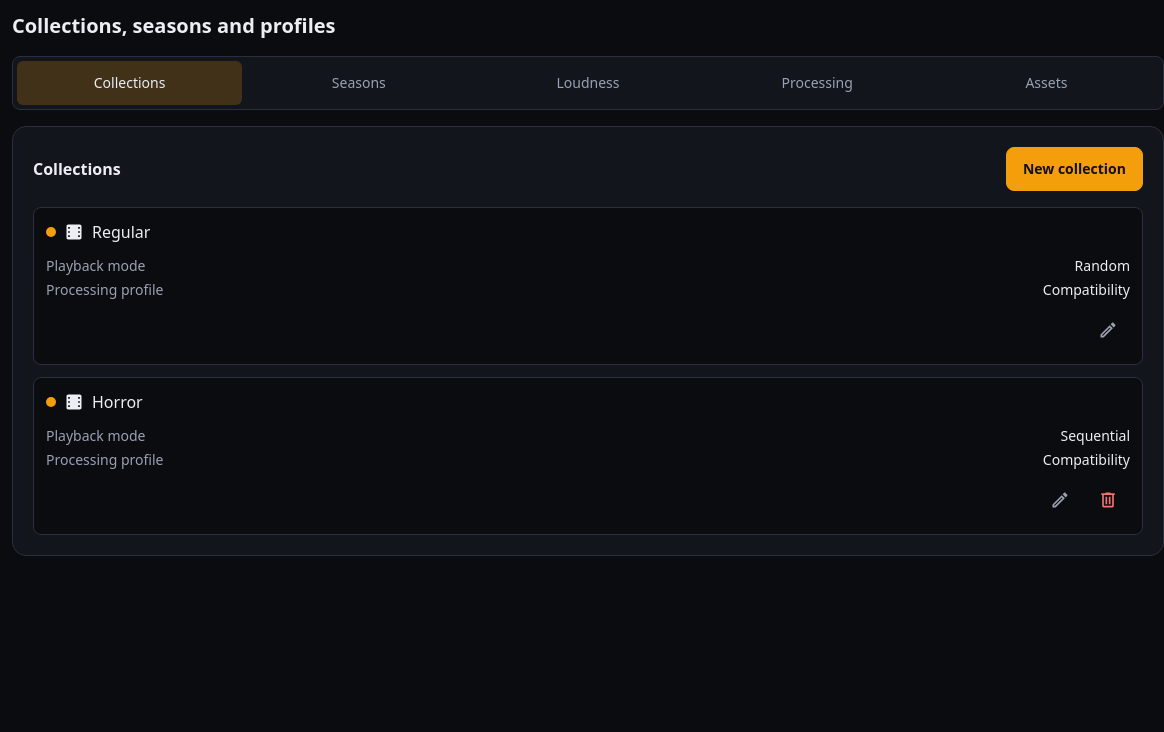
Scenario: shows season and collection when probing a date
This screenshot has width=1164, height=732.
Click the tab with id "organize-tab-seasons": x=359, y=83 x1=246 y1=61 x2=471 y2=105
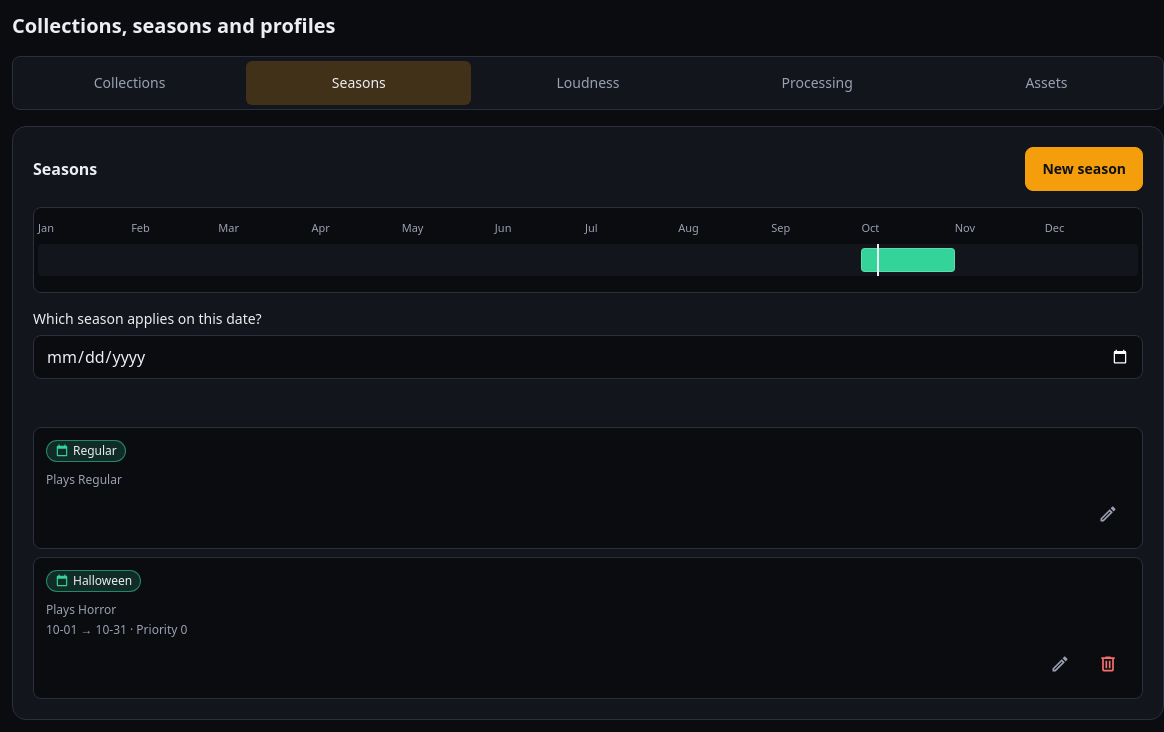
In the date field labelled "Which season applies on this date?": x=588, y=357 x1=33 y1=335 x2=1143 y2=379, type "2026-10-31"
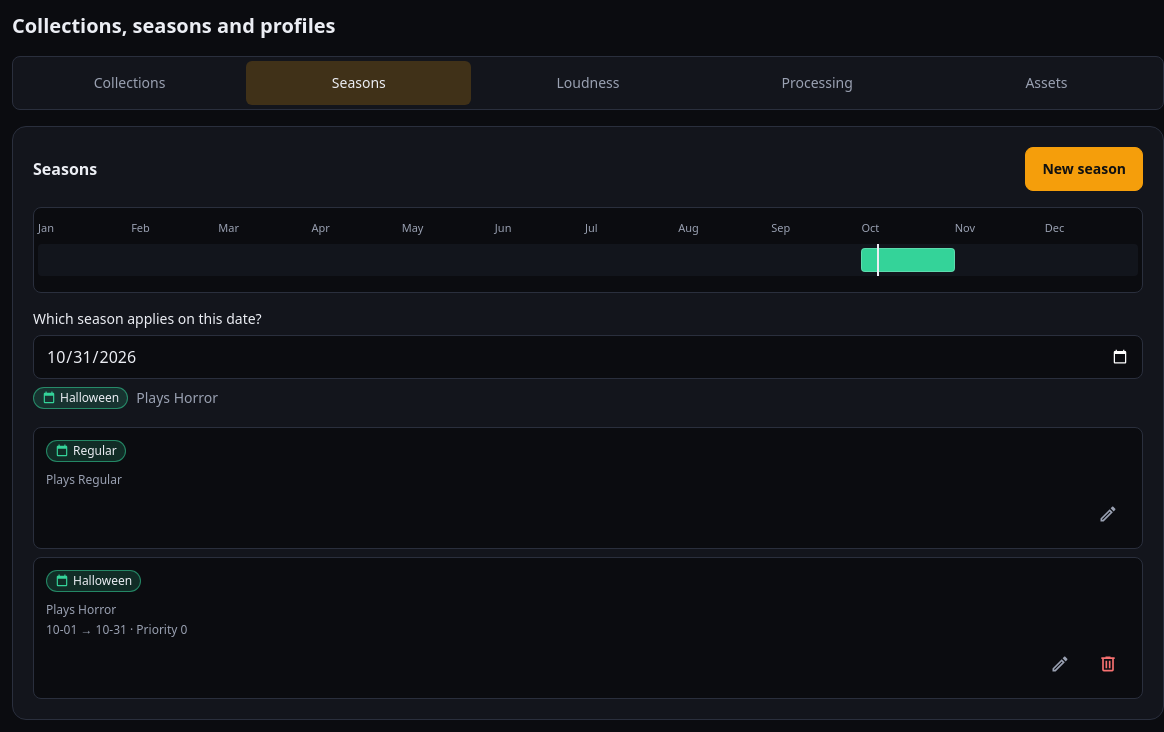
Expected: the element with test id "probe-result" shows "Halloween", x1=60 y1=389 x2=119 y2=406
Expected: the element with test id "probe-result" shows "Horror", x1=136 y1=388 x2=218 y2=407
